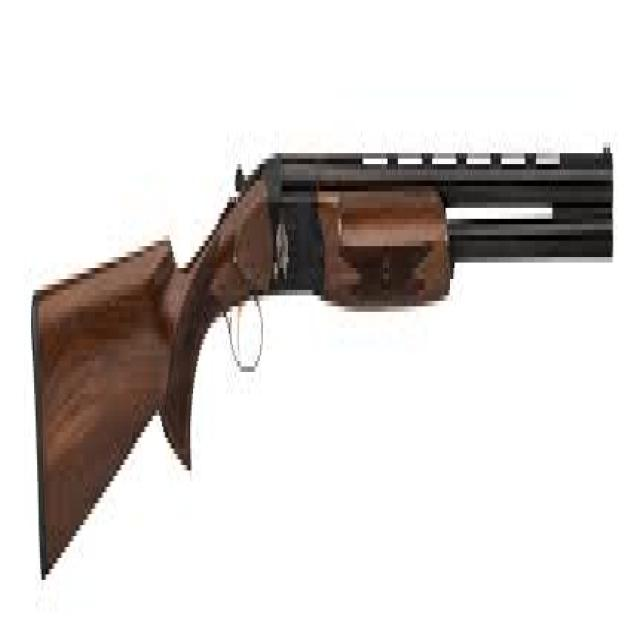rifle: (23, 102, 622, 599)
